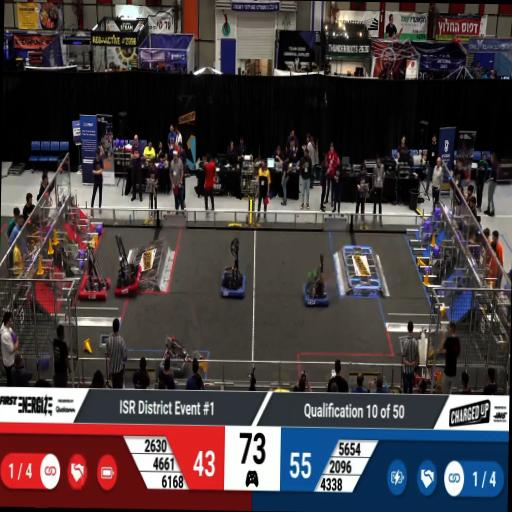robot: (76, 256, 113, 300), (217, 253, 249, 303), (156, 332, 190, 376), (114, 250, 142, 300), (301, 274, 331, 308)
